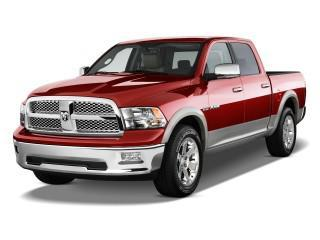ram: (58, 107, 74, 124)
